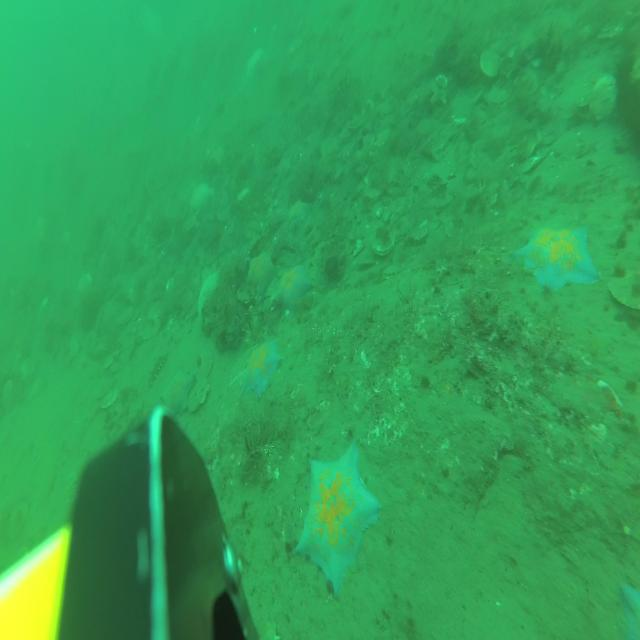echinus: (615, 52, 638, 102), (620, 104, 640, 154)
holothurian: (148, 350, 167, 388)
scallop: (590, 73, 616, 123), (188, 378, 208, 412), (482, 49, 502, 77), (371, 232, 394, 256), (195, 352, 212, 383), (98, 388, 118, 408), (142, 320, 160, 341), (112, 352, 130, 372), (118, 306, 134, 325), (78, 274, 92, 295)
starfish: (295, 443, 380, 601), (513, 227, 602, 294), (240, 338, 280, 400), (272, 264, 310, 314), (161, 368, 195, 418), (619, 581, 640, 640), (248, 252, 274, 294), (190, 180, 213, 217), (288, 198, 310, 226)
